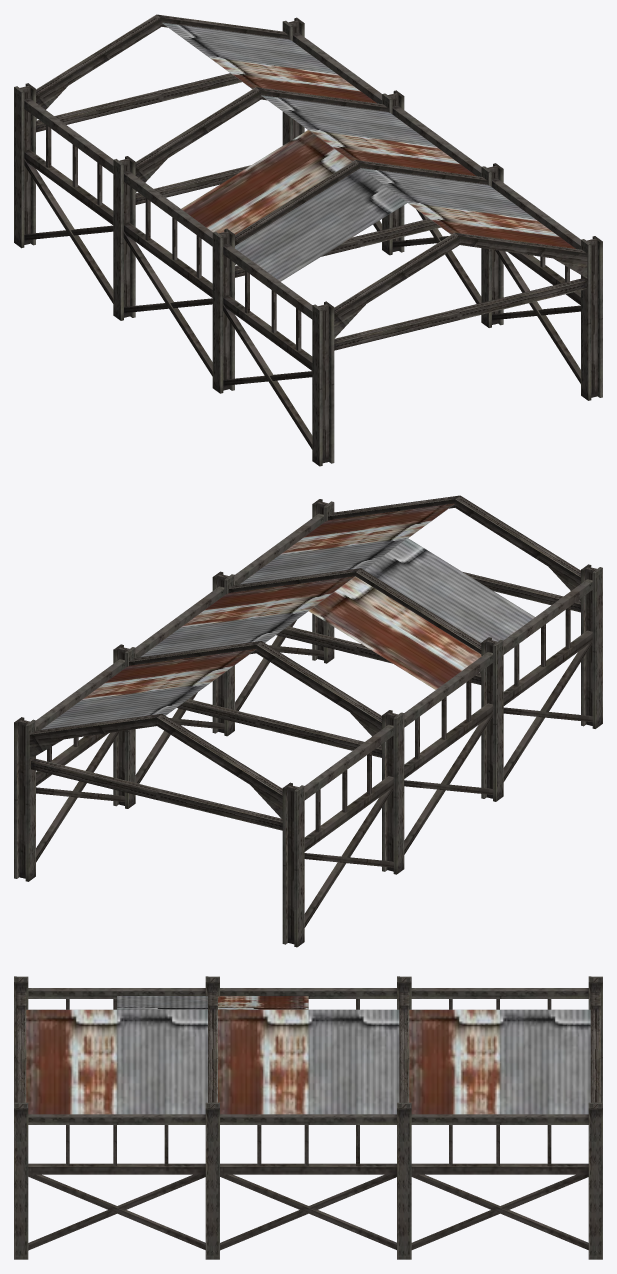
Rendered from ind-loadbay.zfix-v1.lod1.glb.
3 renders of one model, top to bottom at view 1: azimuth 30°, elevation 25°; view 2: azimuth 150°, elevation 25°; view 3: azimuth 270°, elevation 25°, orthographic. The views are drawn at different scales.
Visible parts, largest first — view 1: Industrial_Railroad_Loadbay_Shed_1_Industrial_Bridgemetal_1_, Industrial_Railroad_Loadbay_Shed_1_Industrial_Walls_FLR_1_0; view 2: Industrial_Railroad_Loadbay_Shed_1_Industrial_Bridgemetal_1_, Industrial_Railroad_Loadbay_Shed_1_Industrial_Walls_FLR_1_0; view 3: Industrial_Railroad_Loadbay_Shed_1_Industrial_Walls_FLR_1_0, Industrial_Railroad_Loadbay_Shed_1_Industrial_Bridgemetal_1_.
Part boxes in pixels (x1,y1,x2,y2): Industrial_Railroad_Loadbay_Shed_1_Industrial_Bridgemetal_1_: (14, 14, 602, 466); Industrial_Railroad_Loadbay_Shed_1_Industrial_Walls_FLR_1_0: (162, 22, 575, 281); Industrial_Railroad_Loadbay_Shed_1_Industrial_Bridgemetal_1_: (14, 495, 602, 947); Industrial_Railroad_Loadbay_Shed_1_Industrial_Walls_FLR_1_0: (41, 503, 534, 729); Industrial_Railroad_Loadbay_Shed_1_Industrial_Walls_FLR_1_0: (26, 996, 590, 1114); Industrial_Railroad_Loadbay_Shed_1_Industrial_Bridgemetal_1_: (14, 976, 602, 1259).
Size of the model in its own units: 14.85 by 9.75 by 27.77.
Materials: 2 (2 with a texture image).
